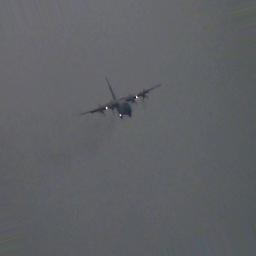Airplane: (81, 79, 161, 120)
